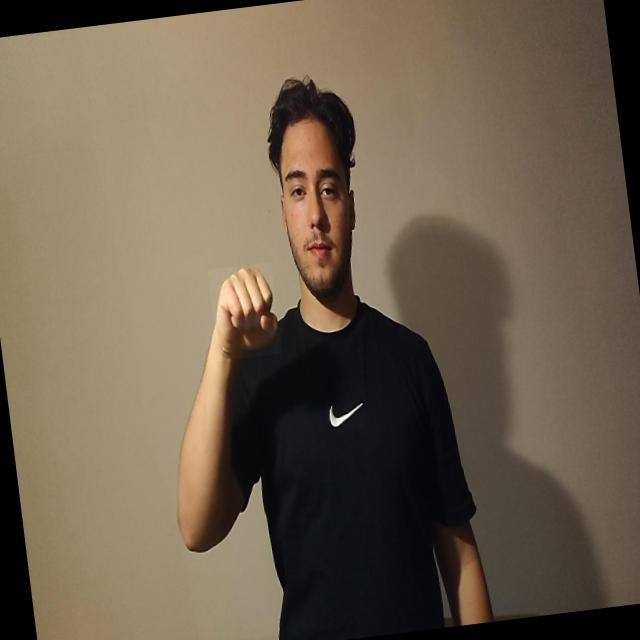yes: (207, 262, 282, 361)
